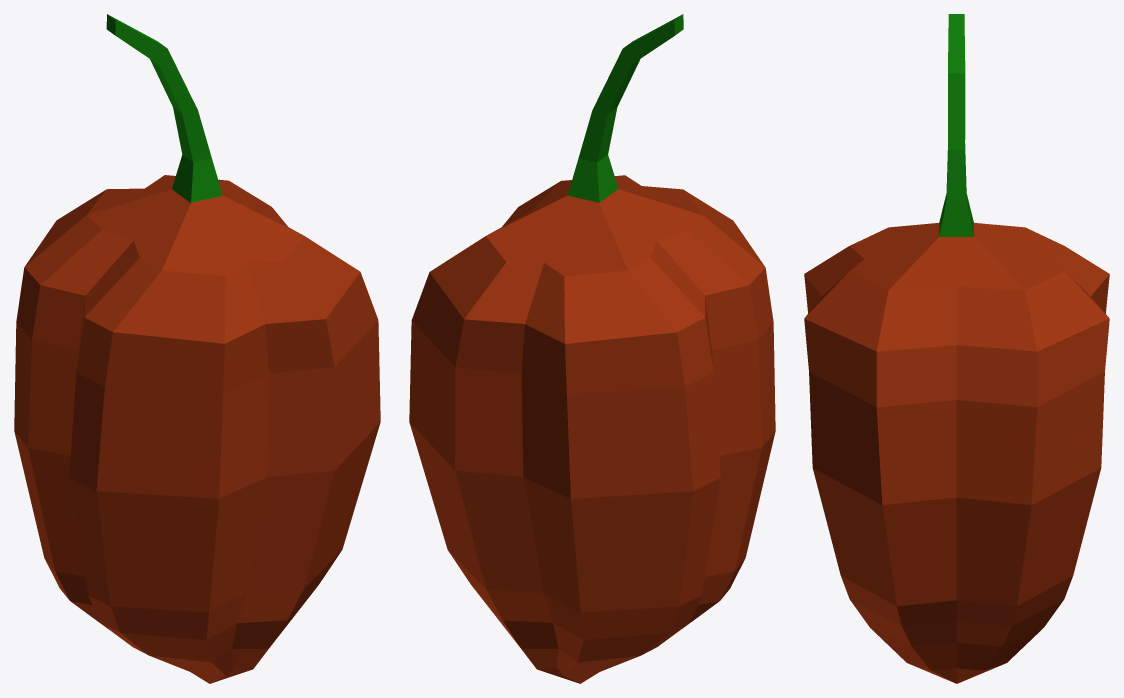
File: Lv3Bullet01.fbx
3 renders of one model, left to right at view 1: azimuth 30°, elevation 25°; view 2: azimuth 150°, elevation 25°; view 3: azimuth 270°, elevation 25°, orthographic. The views are drawn at different scales.
Parts seen in each view (by area): view 1: LanternChili; view 2: LanternChili; view 3: LanternChili.
Part boxes in pixels (x1,y1,x2,y2): LanternChili: (14, 14, 380, 683); LanternChili: (409, 14, 775, 683); LanternChili: (804, 14, 1109, 683).
Size of the model in its own units: 72.27 by 164 by 72.49.
Materials: 1 (1 with a texture image).
